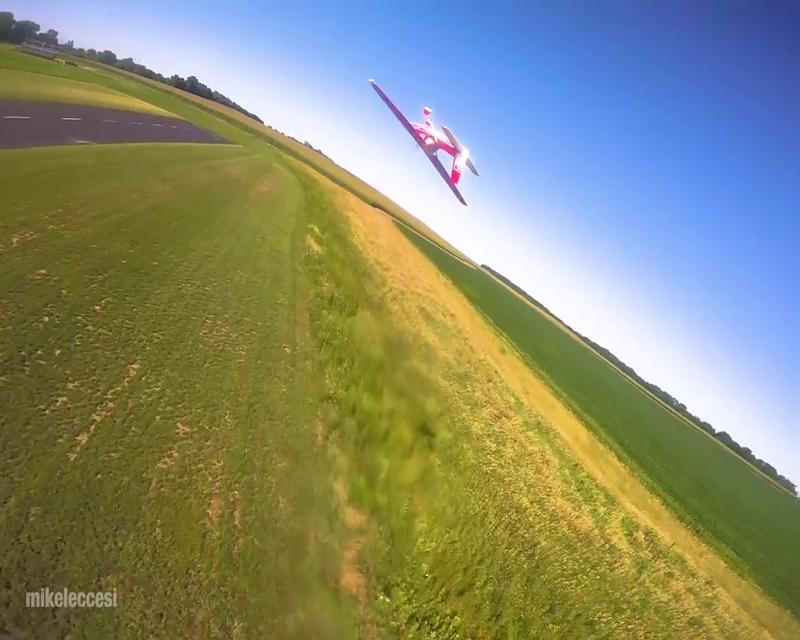UAV: (371, 79, 480, 207)
